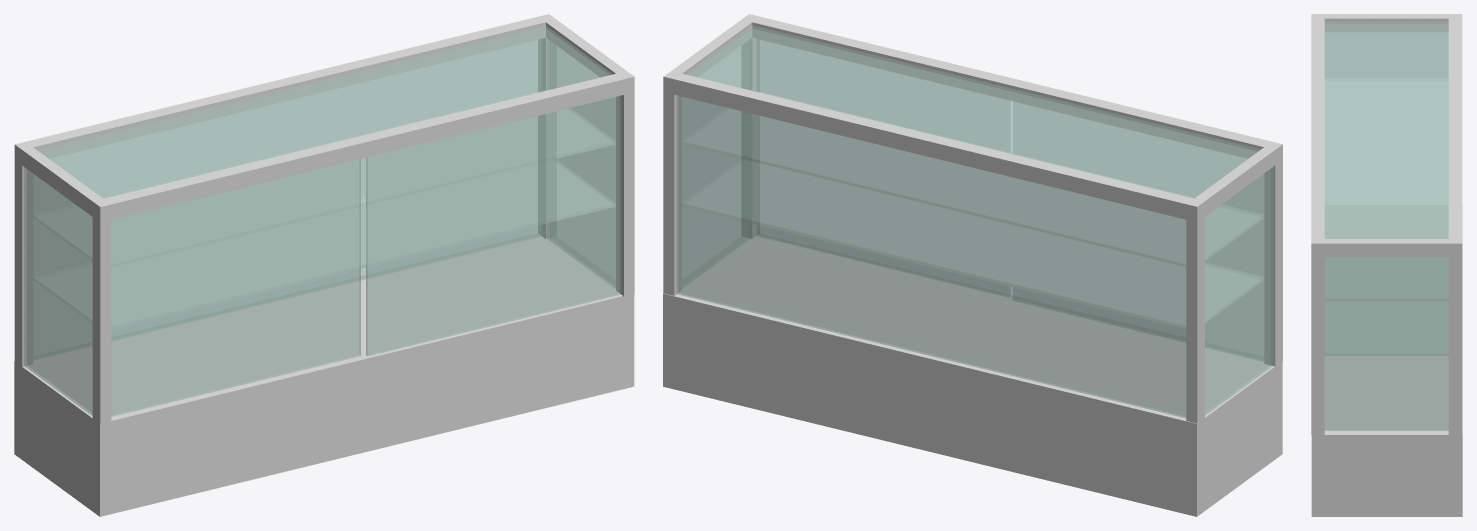
File: DisplayStand.fbx
3 views of the same model, side by side, from view 1: azimuth 30°, elevation 25°; view 2: azimuth 150°, elevation 25°; view 3: azimuth 270°, elevation 25° (orthographic). The views are drawn at different scales.
Parts seen in each view (by area): view 1: polySurface4, Glass7, Glass8, Glass6, Glass1, Glass3, Glass2, Glass4, Glass5; view 2: polySurface4, Glass6, Glass1, Glass3, Glass2, Glass8, Glass7, Glass4, Glass5; view 3: polySurface4, Glass1, Glass2, Glass5, Glass3, Glass4.
Boxes of the visible parts, left/top/right/bottom form: polySurface4: left=14, top=14, right=634, bottom=516; Glass7: left=366, top=95, right=621, bottom=356; Glass8: left=111, top=159, right=360, bottom=416; Glass6: left=33, top=39, right=541, bottom=359; Glass1: left=37, top=25, right=612, bottom=198; Glass3: left=33, top=159, right=615, bottom=328; Glass2: left=33, top=90, right=615, bottom=266; Glass4: left=24, top=167, right=92, bottom=415; Glass5: left=547, top=41, right=615, bottom=288; polySurface4: left=663, top=14, right=1282, bottom=516; Glass6: left=677, top=96, right=1186, bottom=418; Glass1: left=686, top=25, right=1260, bottom=198; Glass3: left=682, top=159, right=1263, bottom=328; Glass2: left=682, top=90, right=1263, bottom=266; Glass8: left=1012, top=102, right=1263, bottom=361; Glass7: left=756, top=39, right=1010, bottom=297; Glass4: left=1205, top=166, right=1273, bottom=415; Glass5: left=682, top=39, right=751, bottom=288; polySurface4: left=1311, top=14, right=1462, bottom=516; Glass1: left=1324, top=21, right=1448, bottom=238; Glass2: left=1325, top=78, right=1448, bottom=300; Glass5: left=1324, top=257, right=1448, bottom=430; Glass3: left=1325, top=301, right=1448, bottom=355; Glass4: left=1325, top=32, right=1448, bottom=77.
Bounding box in the file's own units: 25.08 × 13.91 × 7.
